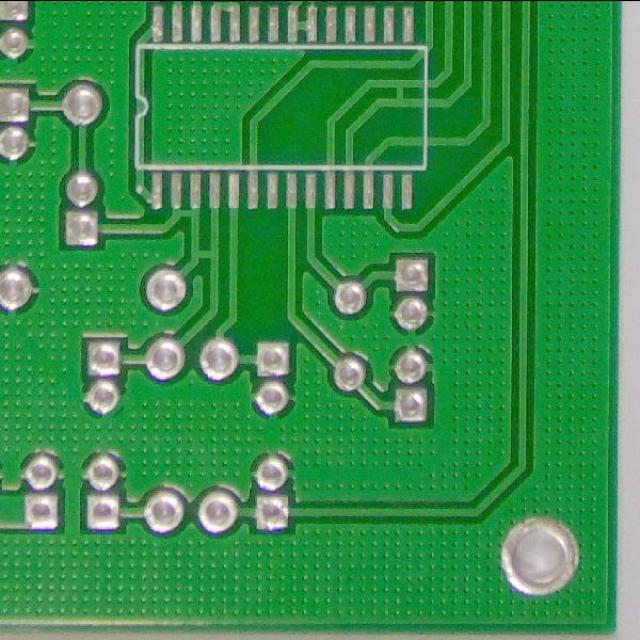short: (382, 76, 421, 113), (188, 238, 222, 275), (168, 199, 200, 223)
